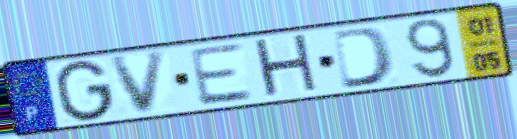9: (400, 17, 458, 80)
D: (330, 24, 398, 91)
E: (185, 41, 257, 109)
G: (54, 58, 117, 124)
H: (250, 31, 324, 102)
V: (106, 48, 170, 118)
